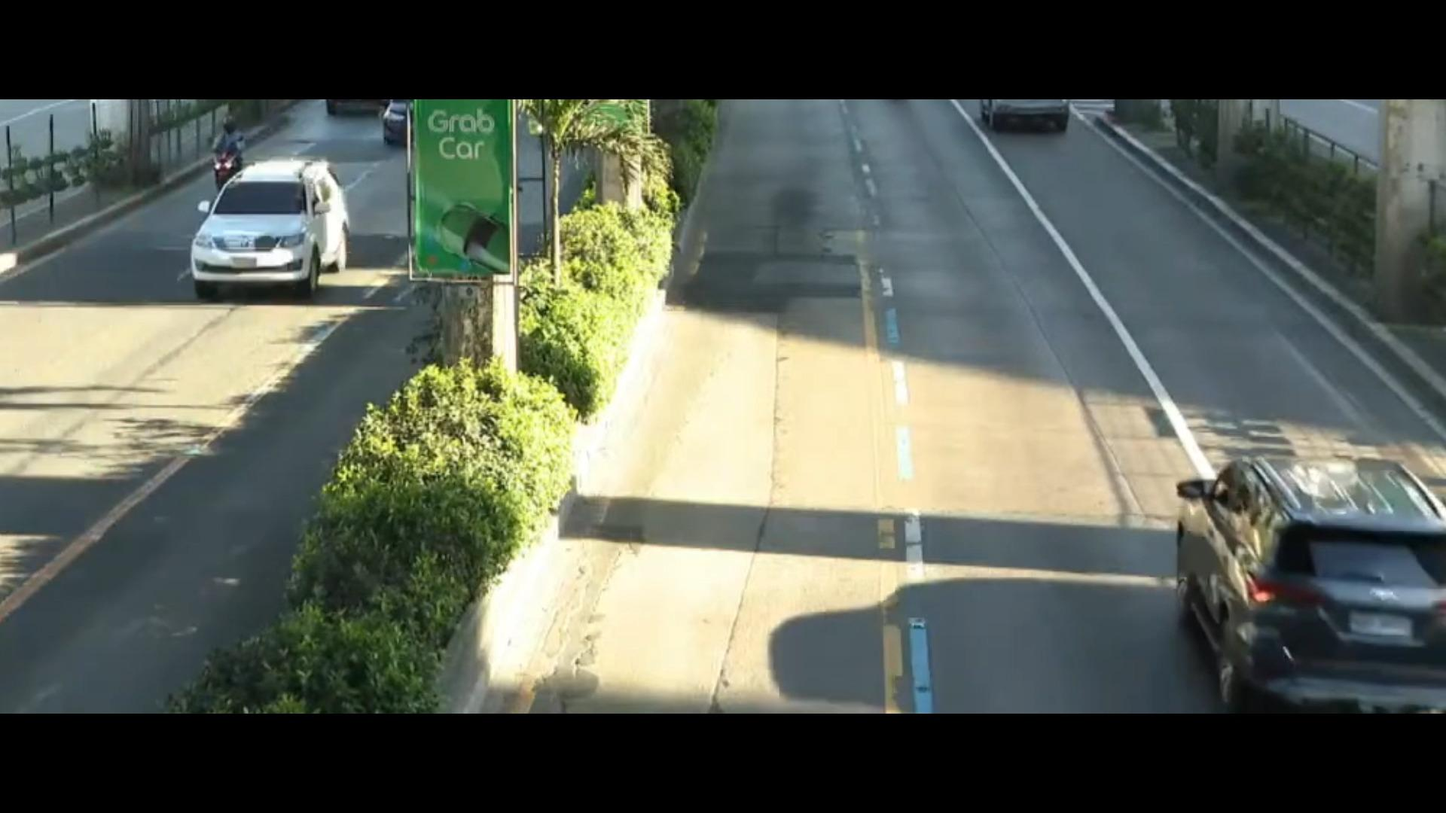Motorcycle: (186, 115, 243, 178)
SUV: (1111, 407, 1446, 723), (161, 142, 364, 327)
